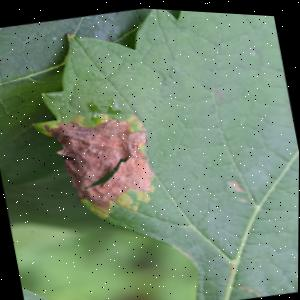Folha: (46, 2, 300, 300)
Fungo: (32, 97, 161, 222), (80, 176, 160, 222), (76, 150, 136, 191), (225, 173, 250, 201)
